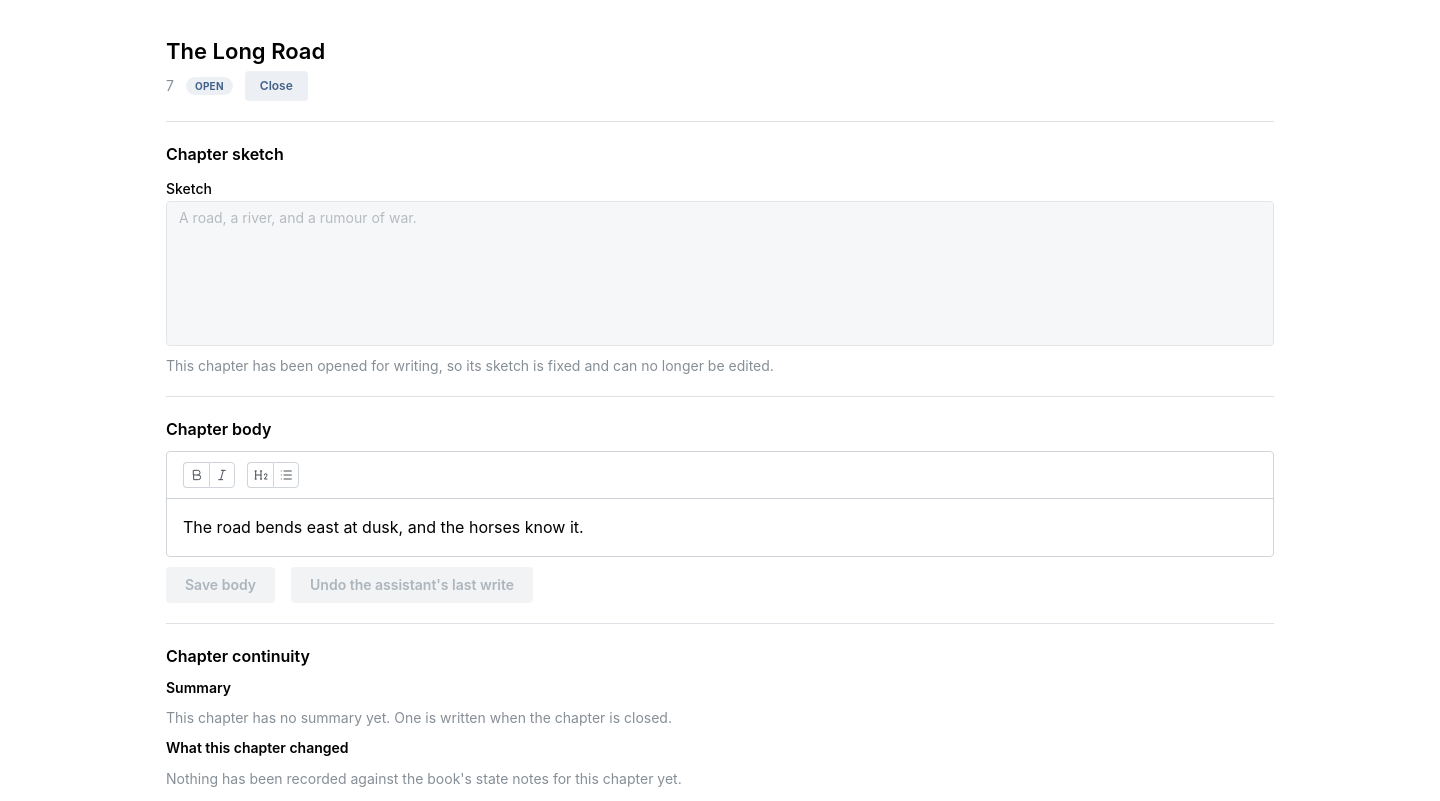
Test: an open chapter offers close (DoD-2) › DoD-2: the only control is close, and confirming it shows the chapter as closing with the body read-only and no save control — US-038.AC-1, US-038.AC-3
expect the button "Save body" is shown: met, box [166,567,275,603]
Click the button "Close" at coordinates (276, 86), box [245,71,308,101]
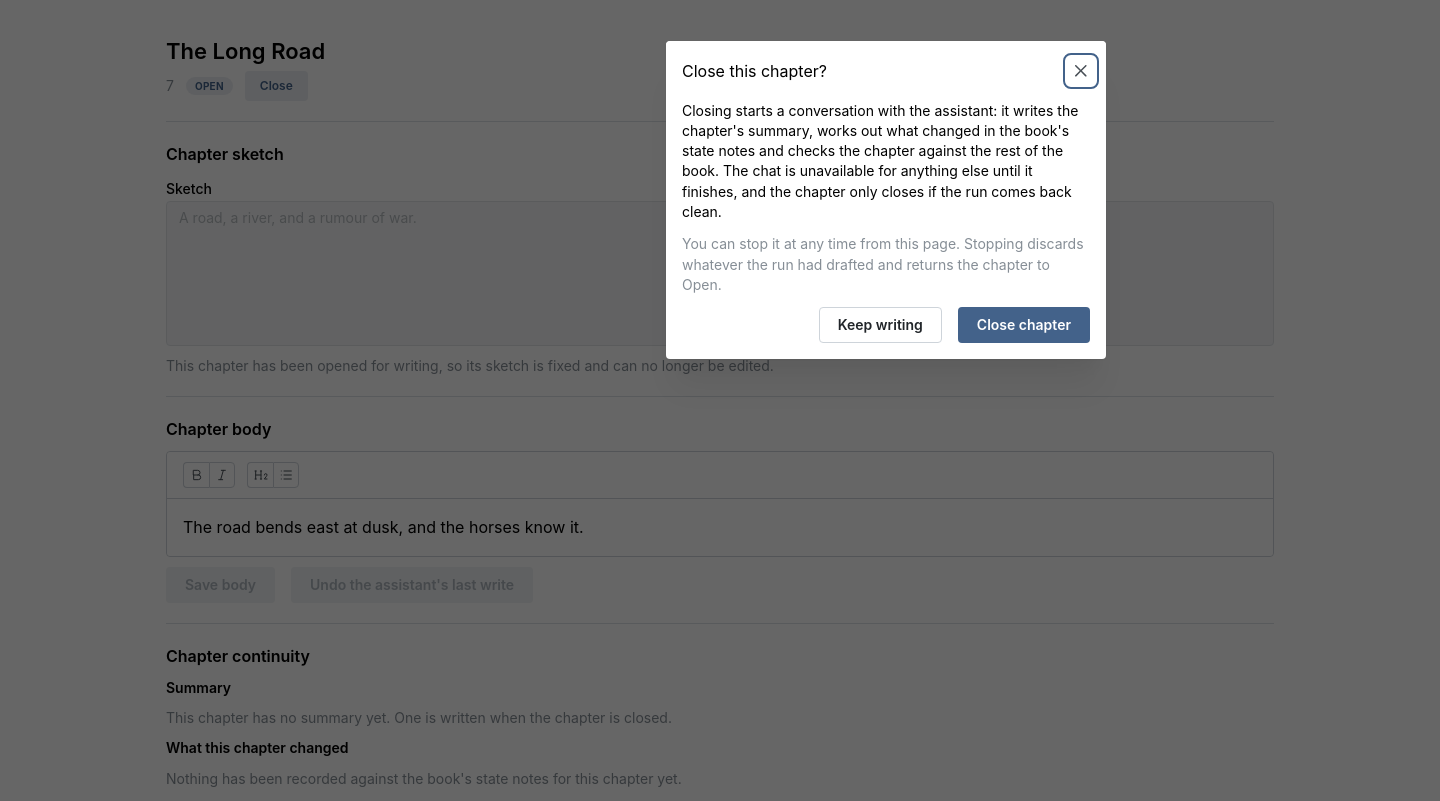
Click the button "Close chapter" at coordinates (1024, 325), box [958,307,1090,343]
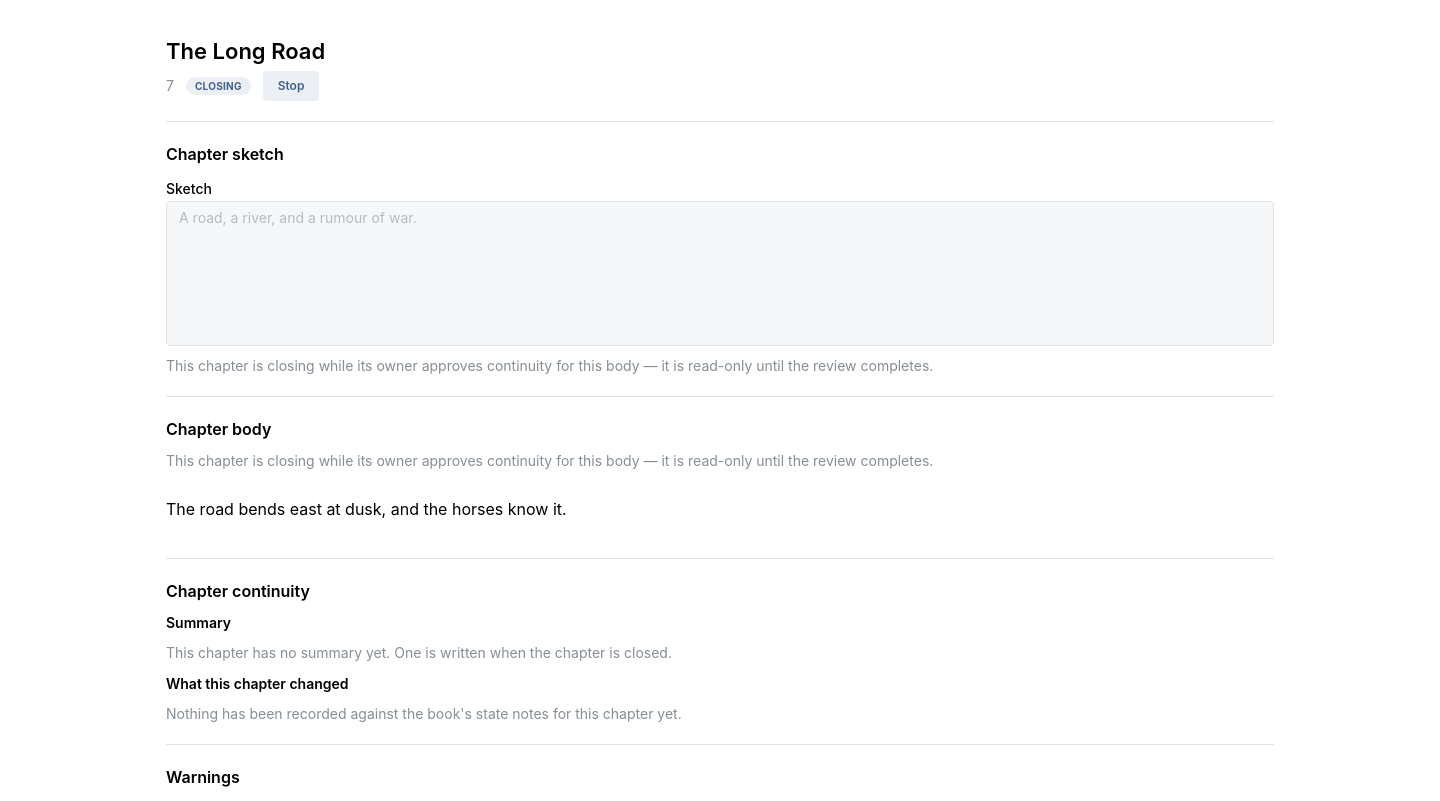
expect the text "The road bends east at dusk, and the horses know it." is shown: met, box [166,499,567,519]
expect the button "Save body" is gone: met
